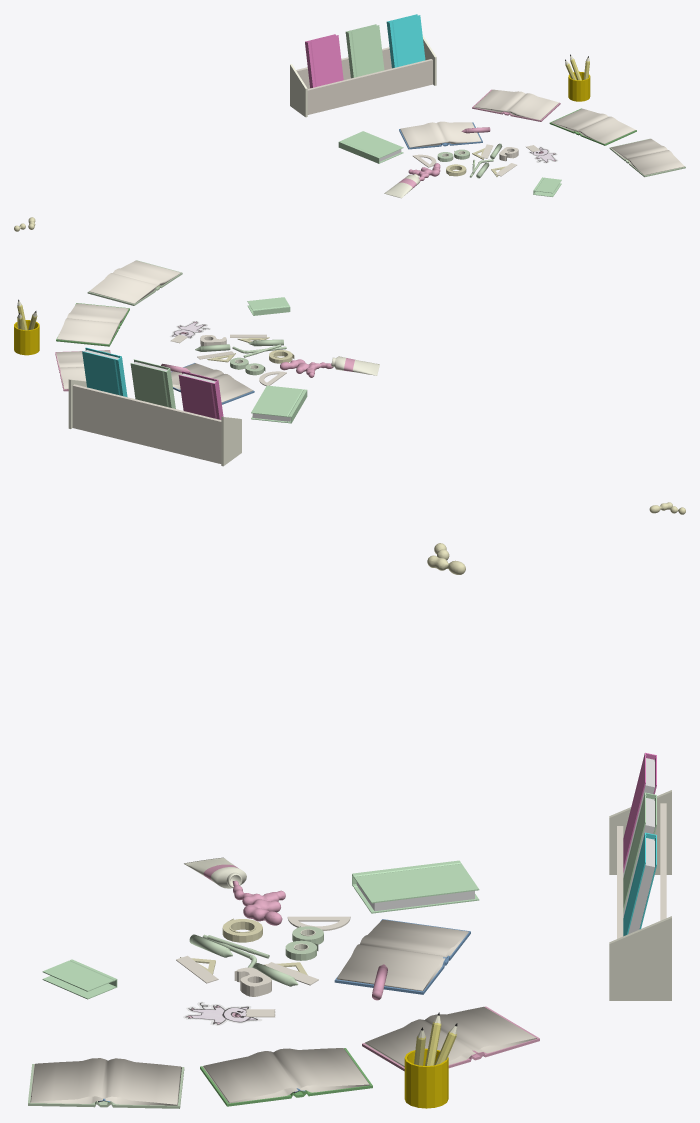
File: kidapp6.glb
3 renders of one model, top to bottom at view 1: azimuth 30°, elevation 25°; view 2: azimuth 150°, elevation 25°; view 3: azimuth 270°, elevation 25°, orthographic. The views are drawn at different scales.
Parts seen in each view (by area): view 1: Cube.001, Cube.032, Cube.033, Cube.028, Cube.034, Cube.004, Cube.007, Cube.010, Cube.011, Cube.012, Cube.030, Cube.019; view 2: Cube.001, Cube.034, Cube.033, Cube.004, Cube.007, Cube.010, Cube.011, Cube.028, Cube.012, Cube.032, Cube.008, Cube.030 (+1 smaller); view 3: Cube.001, Cube.033, Cube.034, Cube.028, Cube.032, Cube.011, Cube.008, Cube.012, Cube.030, Cube.019, Cube.031, Plane.003 (+4 smaller).
Boxes of the visible parts, box(x1,y1,x2,y2) form: Cube.001: box(290, 35, 436, 117); Cube.032: box(472, 89, 560, 121); Cube.033: box(549, 108, 636, 145); Cube.028: box(399, 121, 482, 149); Cube.034: box(609, 138, 685, 177); Cube.004: box(386, 14, 425, 68); Cube.007: box(345, 24, 384, 78); Cube.010: box(305, 34, 343, 88); Cube.011: box(338, 131, 403, 163); Cube.012: box(384, 163, 440, 198); Cube.030: box(568, 71, 590, 101); Cube.019: box(533, 177, 561, 196); Cube.001: box(68, 379, 241, 466); Cube.034: box(87, 260, 182, 305); Cube.033: box(56, 303, 129, 346); Cube.004: box(82, 347, 127, 397); Cube.007: box(130, 359, 175, 408); Cube.010: box(178, 371, 223, 419); Cube.011: box(251, 385, 307, 423); Cube.028: box(171, 363, 254, 404); Cube.012: box(280, 356, 379, 377); Cube.032: box(55, 350, 110, 391); Cube.008: box(85, 350, 685, 514); Cube.030: box(14, 320, 39, 355); Cube.001: box(609, 790, 671, 1000); Cube.033: box(200, 1048, 372, 1106); Cube.034: box(28, 1058, 184, 1108); Cube.028: box(334, 919, 470, 994); Cube.032: box(362, 1006, 539, 1071); Cube.011: box(352, 860, 479, 913); Cube.008: box(356, 543, 654, 933); Cube.012: box(184, 857, 285, 925); Cube.030: box(404, 1048, 448, 1108); Cube.019: box(42, 959, 117, 999); Cube.031: box(414, 1012, 457, 1065); Plane.003: box(183, 1001, 262, 1025).
Bounding box in the file's own units: 42.02 × 4.8 × 20.51.
10 materials, 2 textured.
